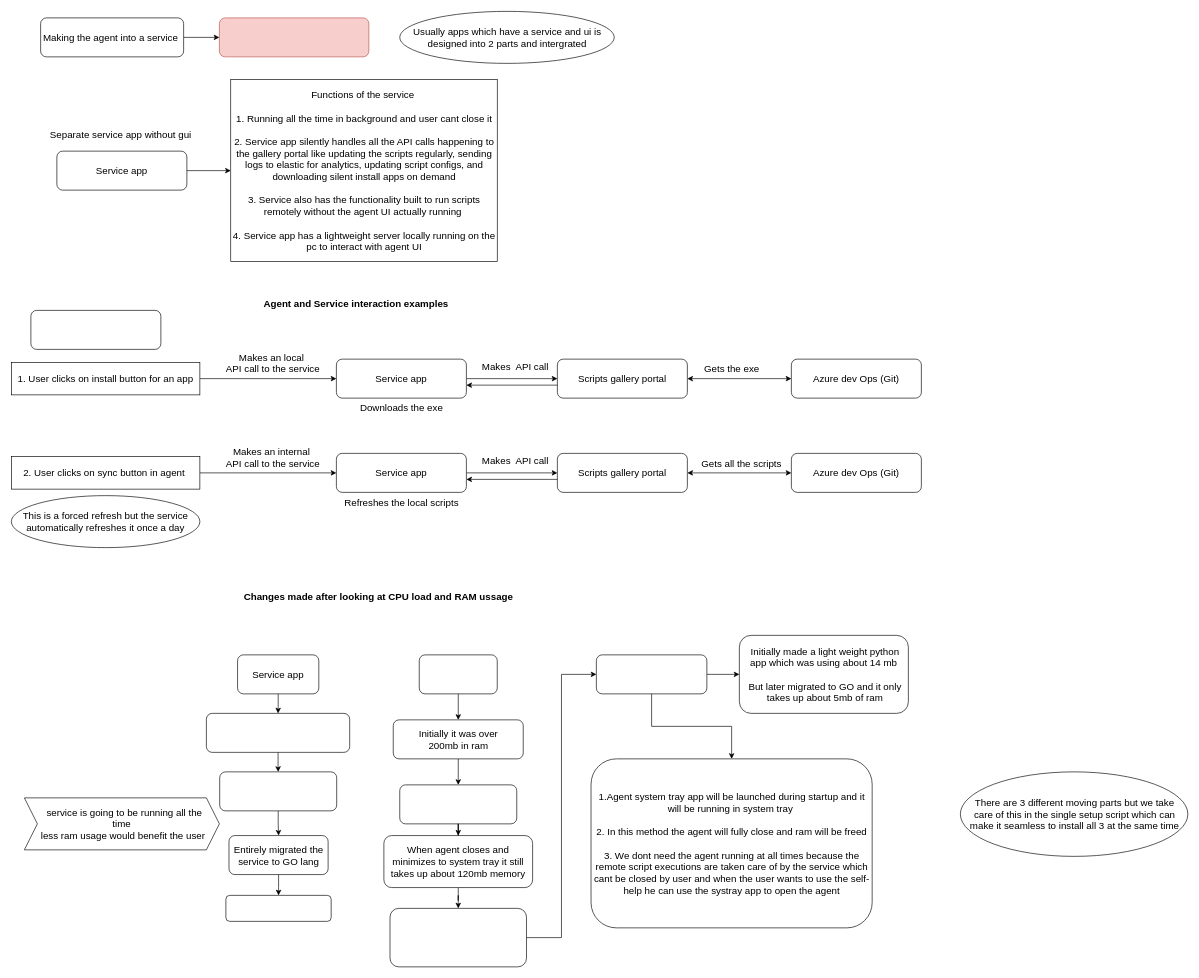
The diagram is 1199 pixels wide and 978 high, and some of its shapes have lost their labels. Here are the shapes that lost their labels. From the top down, the centre of each, then its label:
At point (294, 37): "Services cant invoke any kind of GUI's".
At point (95, 329): "Agent UI".
At point (458, 674): "GUI app".
At point (651, 674): "System tray app".
At point (278, 732): "Initially it was over 150mb in ram".
At point (278, 791): "After tweaking it was around 80mb".
At point (458, 804): "After tweaks and modifications it is around 120mb".
At point (278, 908): "Currently the service is less than 5 mb".
At point (457, 937): "To solve this there's a separate system tray exe which can open the agent".
